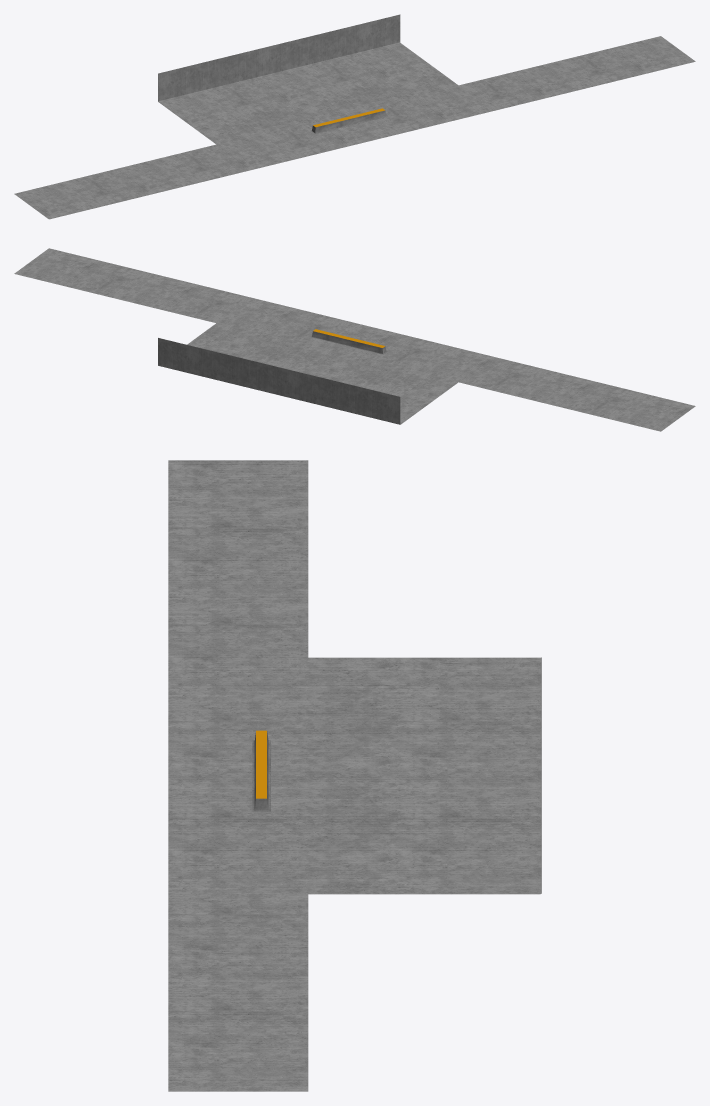
Rendered from SM_Ceiling_11.fbx.
3 views of the same model, one above another, from view 1: azimuth 30°, elevation 25°; view 2: azimuth 150°, elevation 25°; view 3: azimuth 270°, elevation 25° (orthographic). The views are drawn at different scales.
Parts seen in each view (by area): view 1: SM_Ceiling_11; view 2: SM_Ceiling_11; view 3: SM_Ceiling_11.
Part boxes in pixels (x1=…): SM_Ceiling_11: x1=14, y1=14, x2=695, y2=219; SM_Ceiling_11: x1=14, y1=248, x2=695, y2=431; SM_Ceiling_11: x1=168, y1=460, x2=541, y2=1091.
Bounding box in the file's own units: 3200 × 133 × 800.
